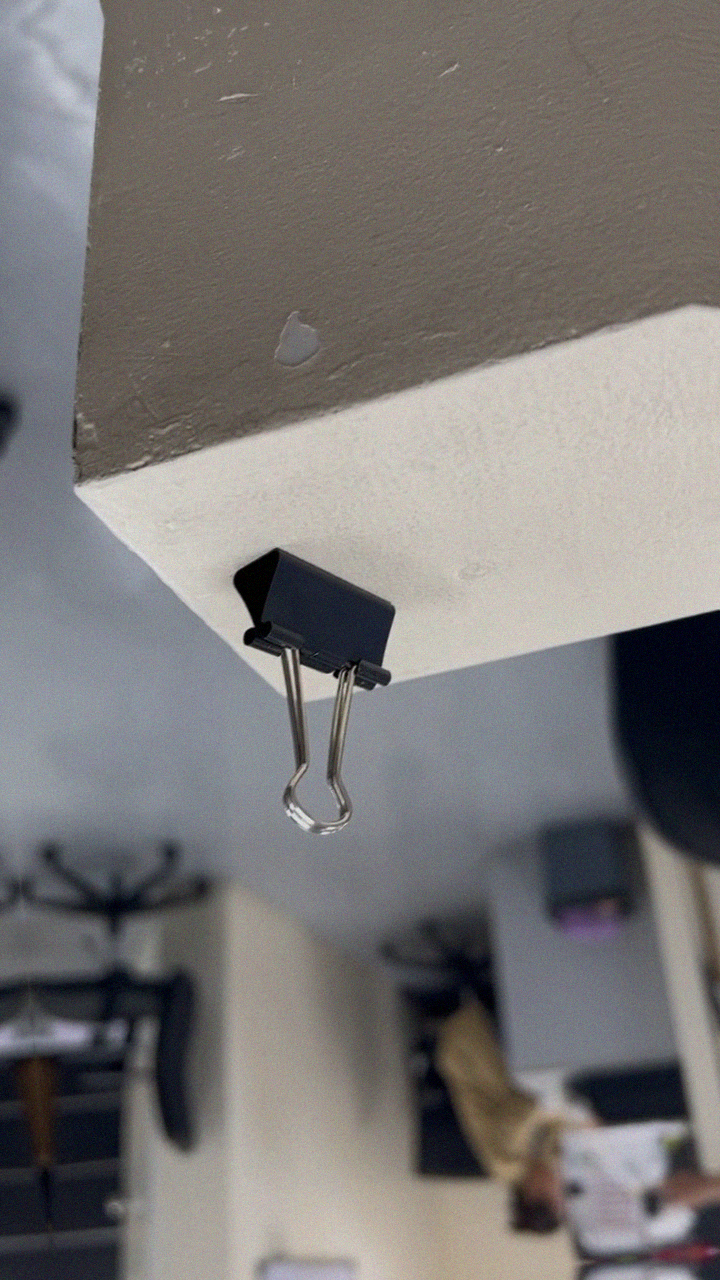kep_giay: (225, 533, 418, 844)
